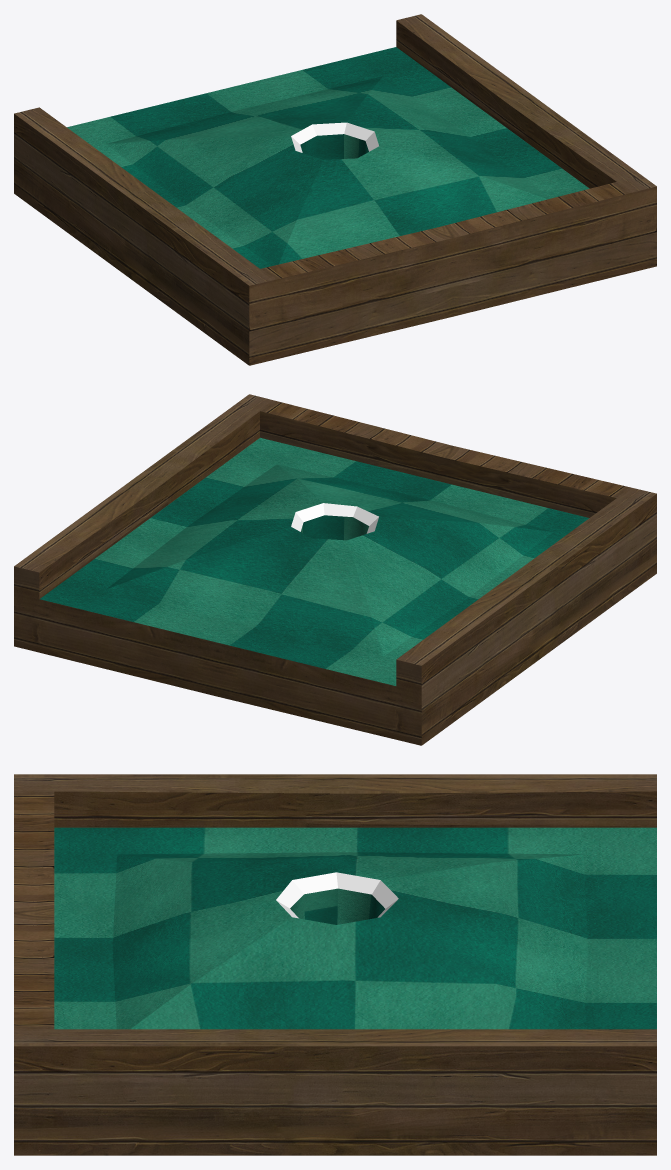
File: End_bump.gltf
The picture shows the model from 3 angles, top to bottom: view 1: azimuth 30°, elevation 25°; view 2: azimuth 150°, elevation 25°; view 3: azimuth 270°, elevation 25°; orthographic projection. The views are drawn at different scales.
Visible parts, largest first — view 1: End_bump_glb; view 2: End_bump_glb; view 3: End_bump_glb.
Boxes of the visible parts, x1,y1,x2,y2 form: End_bump_glb: (14, 14, 656, 365); End_bump_glb: (14, 394, 656, 745); End_bump_glb: (14, 774, 656, 1155).
Size of what is drawn, in the model's own units: 4 by 0.9241 by 4.
3 materials, 2 textured.
